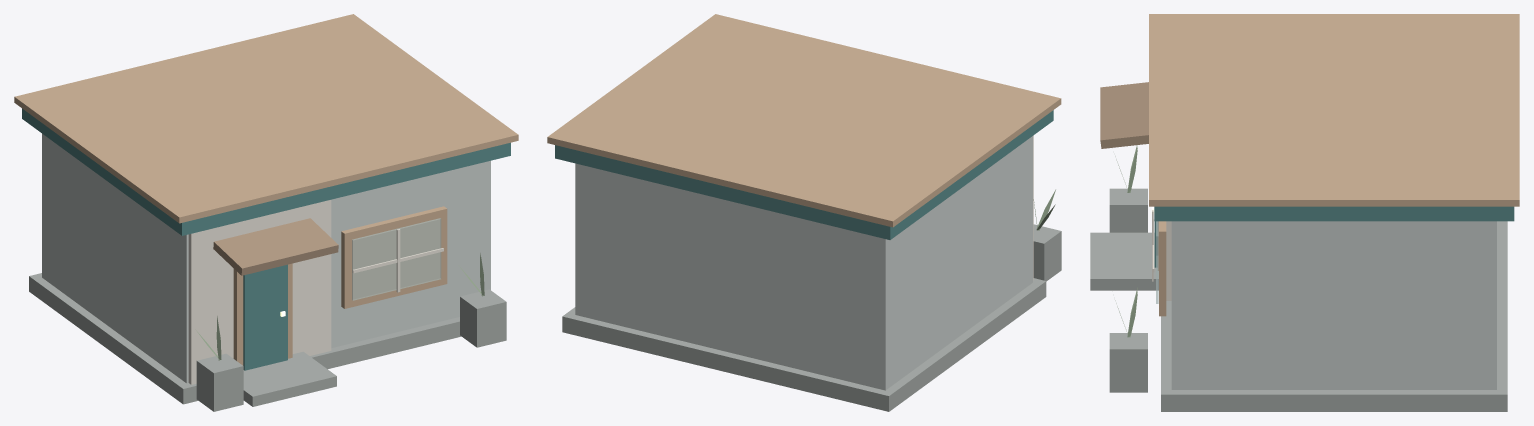
The model's file is yaba_starter_house.glb.
3 renders of one model, left to right at view 1: azimuth 30°, elevation 25°; view 2: azimuth 150°, elevation 25°; view 3: azimuth 270°, elevation 25°, orthographic. The views are drawn at different scales.
Parts seen in each view (by area): view 1: house_roof_trim, house_shell, house_facade, house_window_frame, house_foundation, house_roof, house_window_glass, house_door, house_entry_canopy, house_steps, house_planter_left, house_planter_right (+1 smaller); view 2: house_shell, house_roof_trim, house_foundation, house_roof, house_planter_left; view 3: house_roof_trim, house_shell, house_foundation, house_roof, house_steps, house_entry_canopy, house_planter_right, house_planter_left, house_window_frame, house_facade.
Boxes of the visible parts, x1,y1,x2,y2 form: house_roof_trim: (14,14,518,223); house_shell: (42,133,490,383); house_facade: (188,200,331,384); house_window_frame: (341,206,447,308); house_foundation: (29,273,461,404); house_roof: (22,108,510,235); house_window_glass: (352,218,441,300); house_door: (243,264,287,370); house_entry_canopy: (213,218,338,275); house_steps: (243,351,336,406); house_planter_left: (196,353,243,411); house_planter_right: (460,289,506,347); house_shell: (575,136,1032,390); house_roof_trim: (547,14,1061,227); house_foundation: (562,278,1046,411); house_roof: (555,110,1053,239); house_planter_left: (1033,224,1061,281); house_roof_trim: (1149,14,1519,206); house_shell: (1171,221,1496,389); house_foundation: (1161,221,1507,411); house_roof: (1154,206,1514,221); house_steps: (1090,232,1158,290); house_entry_canopy: (1100,82,1148,148); house_planter_right: (1109,333,1147,392); house_planter_left: (1109,188,1147,232); house_window_frame: (1159,221,1166,316); house_facade: (1166,221,1171,300).
Size of what is drawn, in the model's own units: 8.25 by 4.49 by 8.05.
